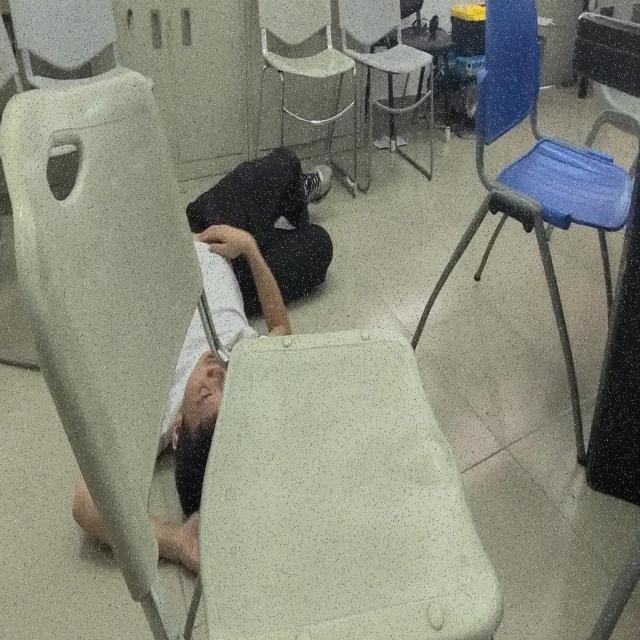fall: (72, 147, 336, 568)
